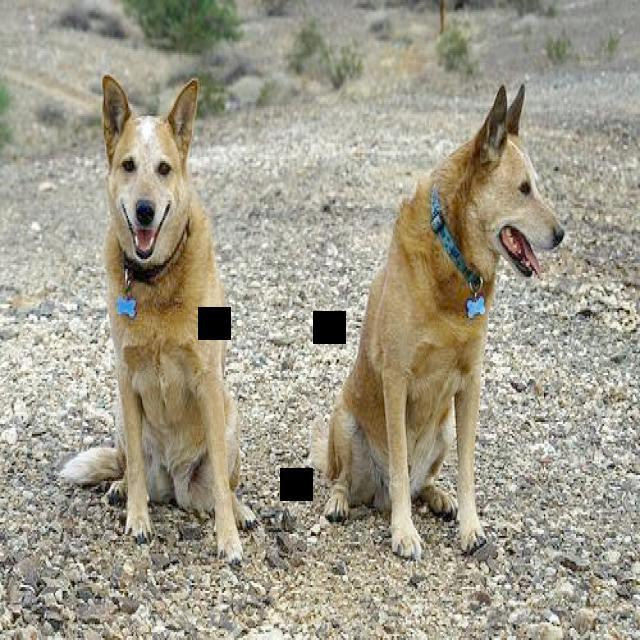adult_dog: (304, 83, 568, 561), (54, 73, 259, 566)
